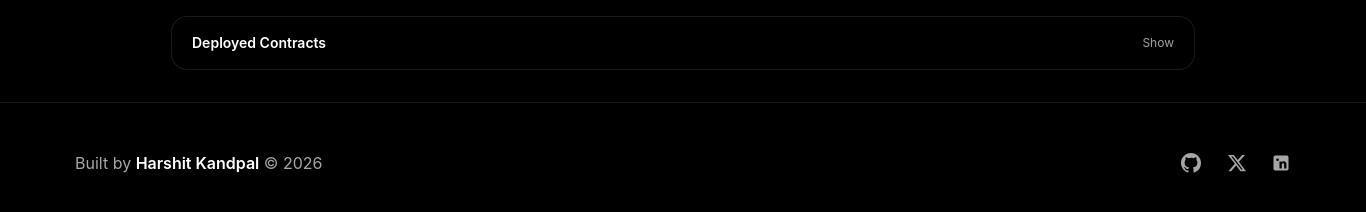
Scenario: Frontend Tests › ContractInfoPanel renders and expands with contract verification details
(page scrolled)
// Expand the panel
Click the button with aria-label "Toggle contract transparency panel": coordinates (259, 42) [172,16,1194,68]
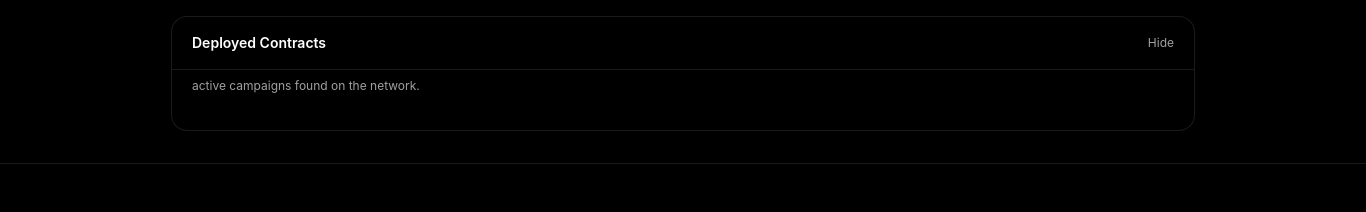
Expected: the text "Deployed Contracts" is shown, [192,32,326,52]
Expected: the text "active campaigns found on the network." is shown, [192,78,420,92]
